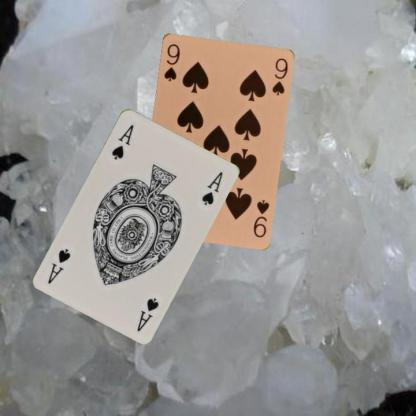9s: (161, 41, 182, 83), (250, 197, 271, 239)
As: (109, 121, 135, 161), (134, 295, 160, 332)
